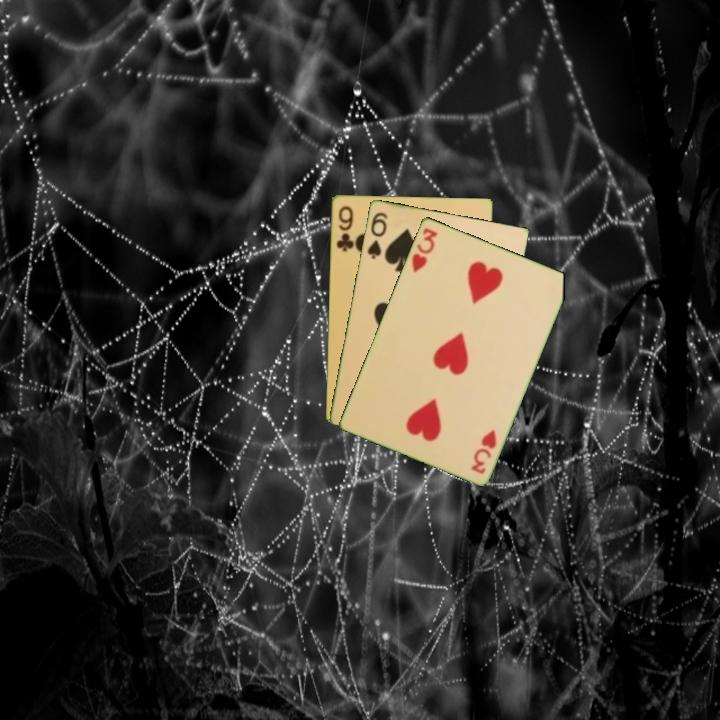3h: (408, 224, 441, 275), (467, 425, 499, 476)
6s: (363, 208, 390, 262)
9c: (333, 202, 356, 254)
